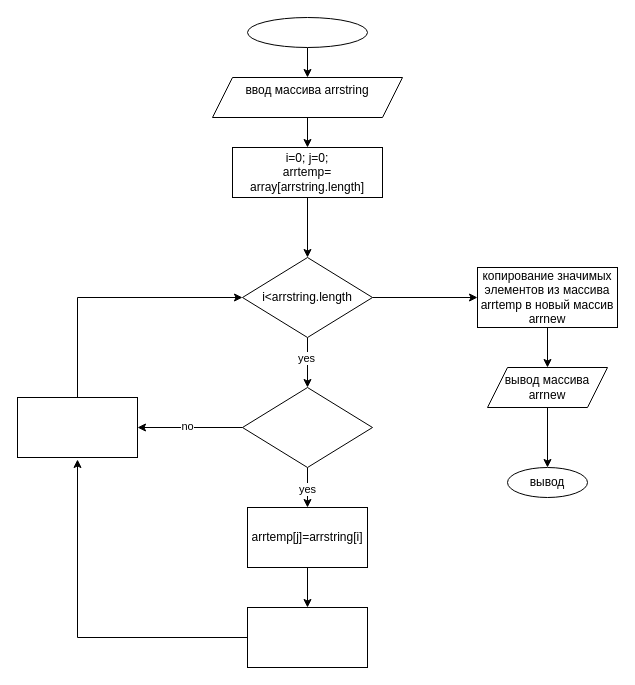
The diagram is 635 pixels wide and 685 high, and some of its shapes have lost their labels. The shapes that lost their labels are listed below. From the top down, each one's centre as x and y in pixels, then its label:
pixel 307 32: Вход
pixel 77 427: i=i+1
pixel 307 427: arrstring[i]>=3
pixel 307 637: j=j+1
